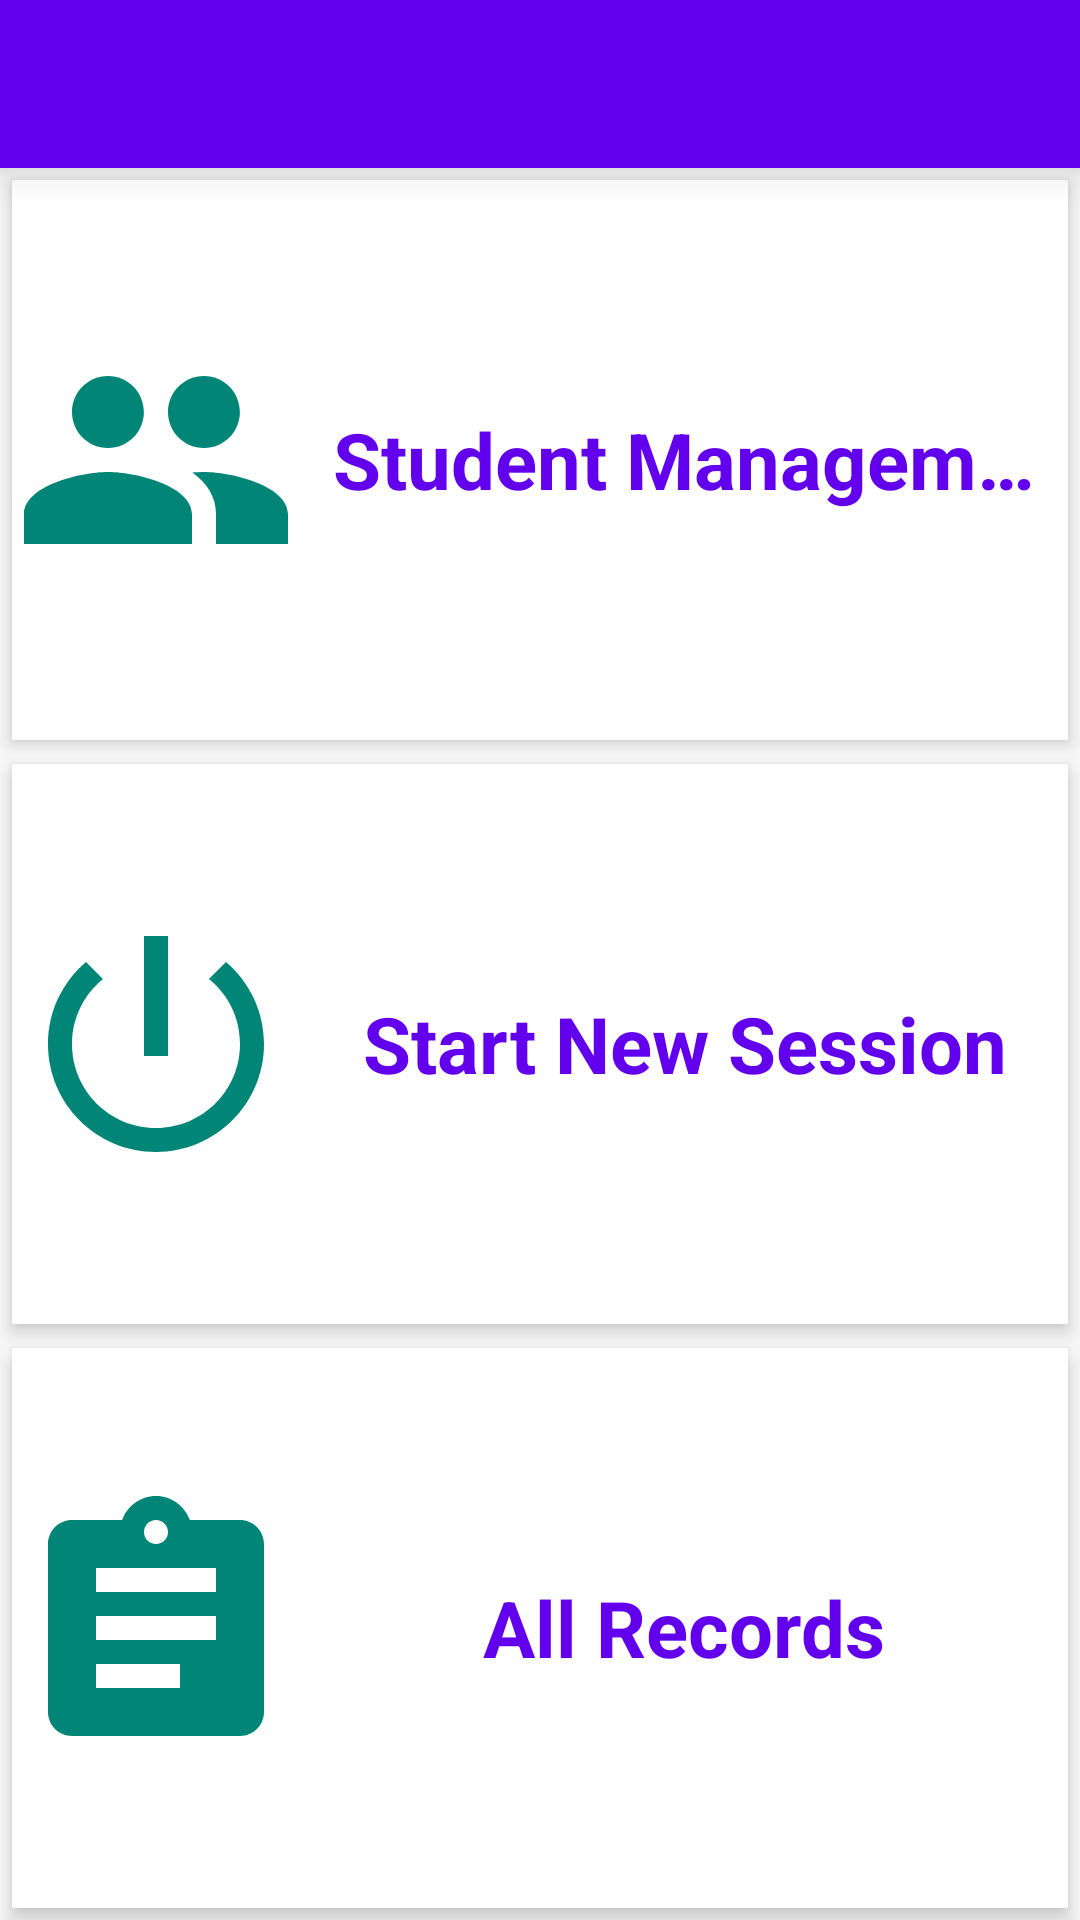

Screen size 1080 × 1920. Icon name, then its center in pixels as (x,y):
assignment: (156,1616)
power settings: (156,1044)
